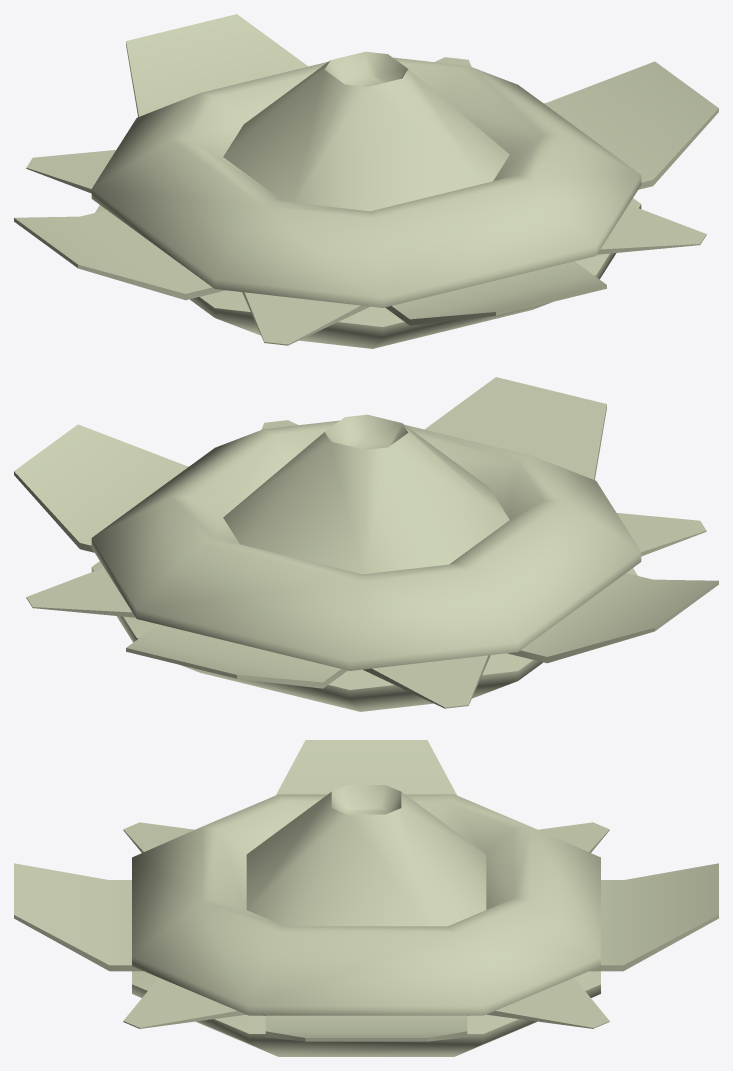
The model's file is headquarters.obj.
3 renders of one model, top to bottom at view 1: azimuth 30°, elevation 25°; view 2: azimuth 150°, elevation 25°; view 3: azimuth 270°, elevation 25°, orthographic. The views are drawn at different scales.
Visible parts, largest first — view 1: Cube1; view 2: Cube1; view 3: Cube1.
Boxes of the visible parts, x1,y1,x2,y2 form: Cube1: (14, 14, 718, 348); Cube1: (14, 377, 718, 711); Cube1: (14, 740, 718, 1056).
Bounding box in the file's own units: 1.8 × 0.5287 × 1.8.
